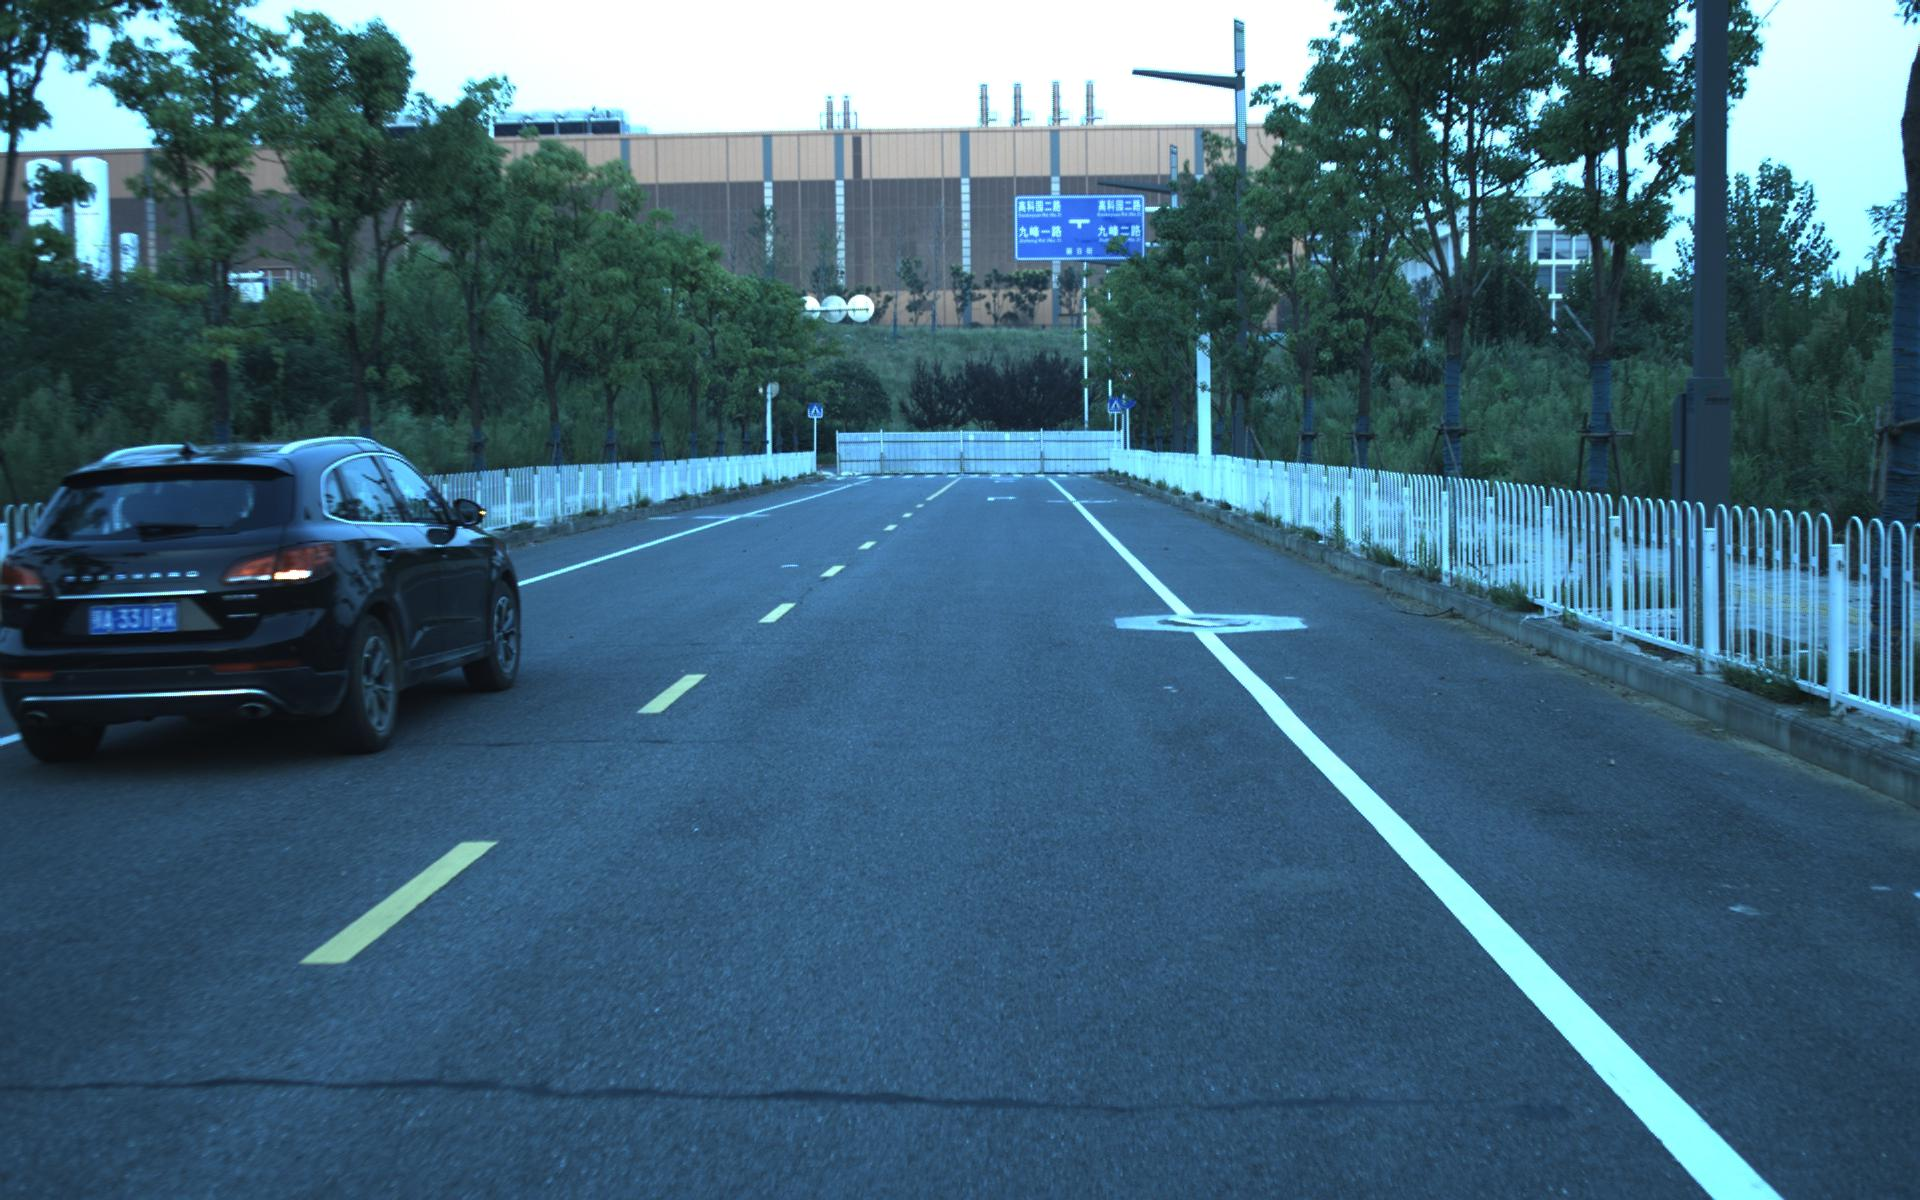Car: (1, 419, 531, 770)
